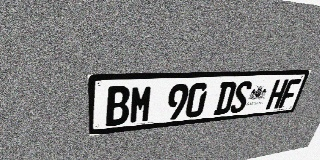0: (184, 83, 209, 118)
9: (165, 83, 190, 120)
B: (106, 86, 130, 126)
D: (213, 81, 238, 115)
F: (278, 79, 301, 108)
H: (265, 79, 289, 110)
M: (129, 85, 154, 124)
S: (229, 81, 253, 113)
